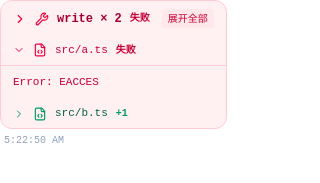
Test: FileToolGroupCard 状态着色与失败展开 › 多文件组：全部收起时失败行也收起，全部展开时恢复
Click the button "展开全部" at x=188, y=18, box [162,9,214,28]
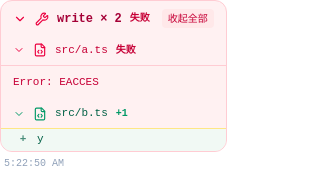
Check: the button "收起全部" is shown
Click the button "收起全部" at x=188, y=18, box [162,9,214,28]
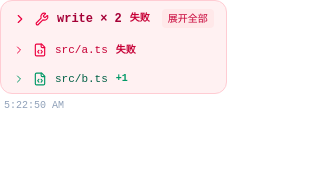
Click the button "展开全部" at x=188, y=18, box [162,9,214,28]
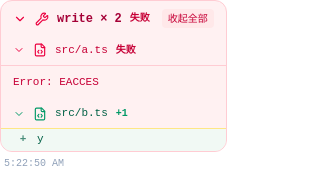
Check: the element with test id "tool-file-detail" shows "EACCES", box [13,76,99,88]
